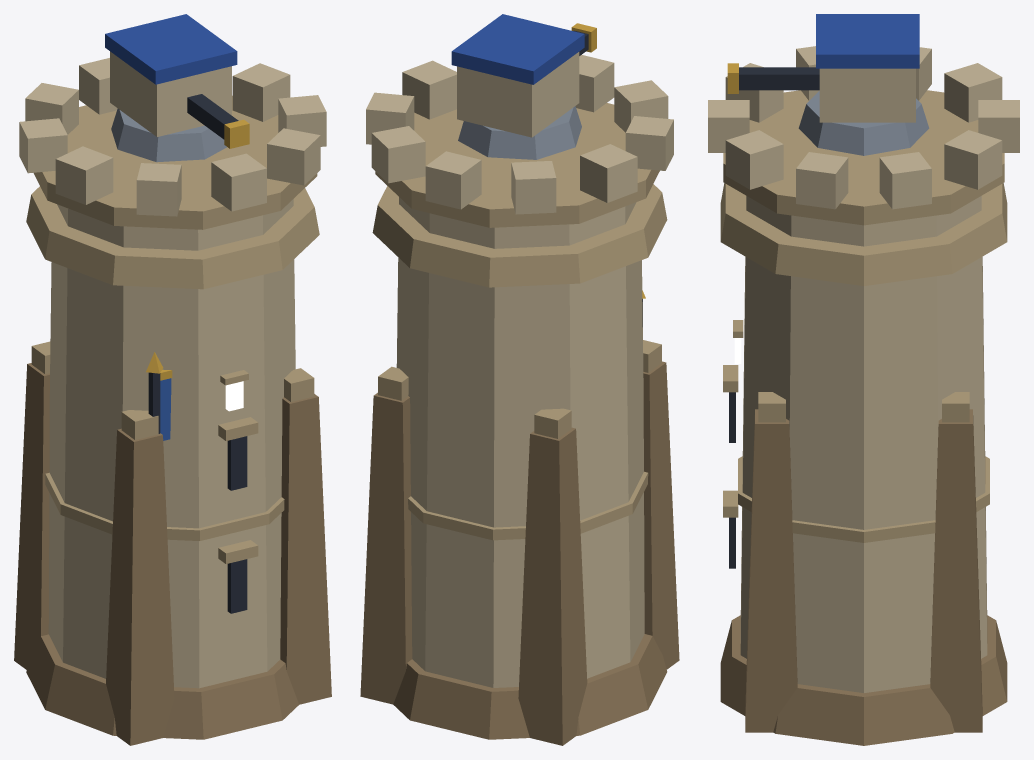
File: tower_t2.glb
3 views of the same model, side by side, from view 1: azimuth 30°, elevation 25°; view 2: azimuth 150°, elevation 25°; view 3: azimuth 270°, elevation 25° (orthographic). The views are drawn at different scales.
Parts seen in each view (by area): view 1: body, part_turret; view 2: body, part_turret; view 3: body, part_turret.
Part boxes in pixels (left/top/right/bottom): body: left=14, top=58, right=331, bottom=745; part_turret: left=105, top=14, right=249, bottom=162; body: left=360, top=55, right=679, bottom=745; part_turret: left=451, top=14, right=596, bottom=159; body: left=708, top=46, right=1019, bottom=745; part_turret: left=727, top=14, right=929, bottom=155.
Size of the model in its own units: 1.79 by 4.13 by 1.8.
